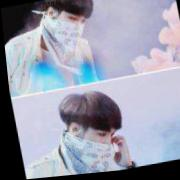OK: (52, 12, 90, 50)
WRONG: (74, 126, 118, 169)
